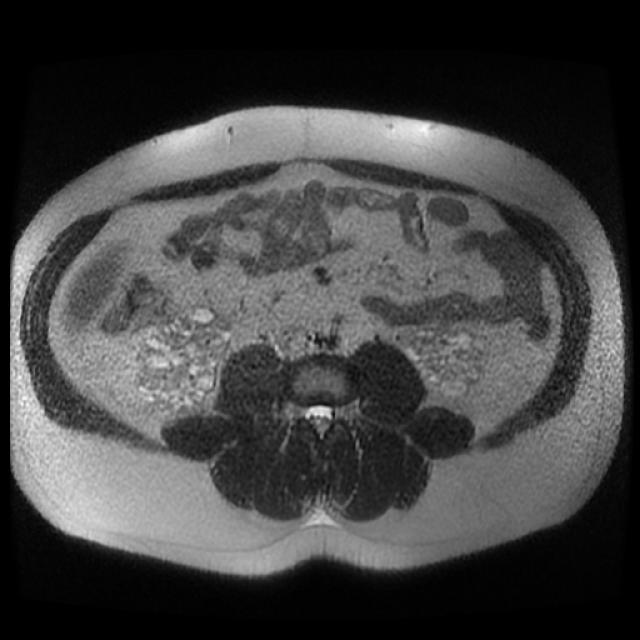sag: (130, 304, 235, 419)
sol: (393, 325, 491, 396)
